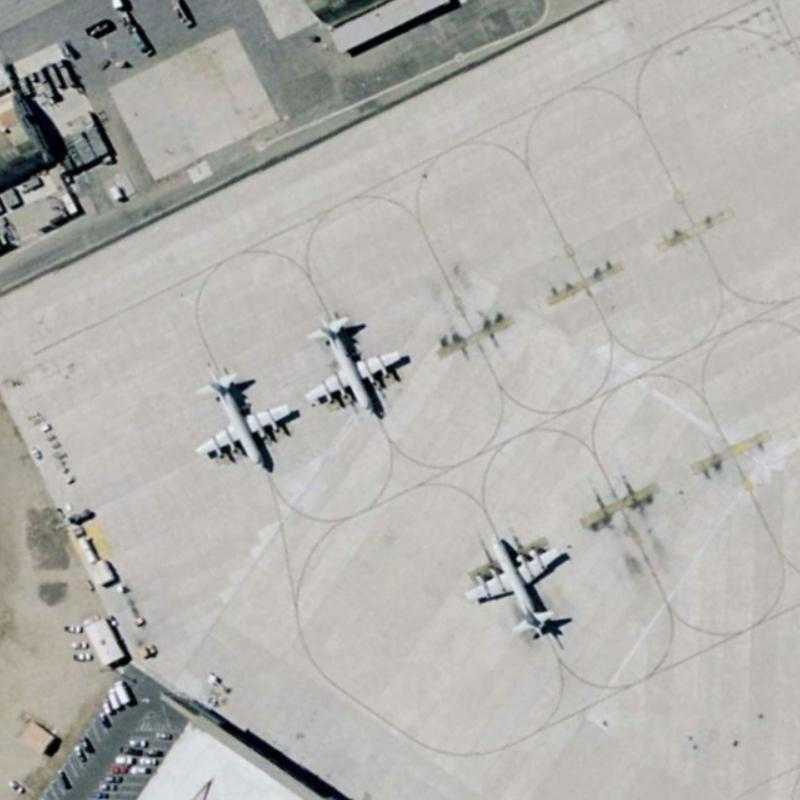A9: (460, 523, 573, 645), (303, 308, 411, 422), (191, 365, 299, 471)
